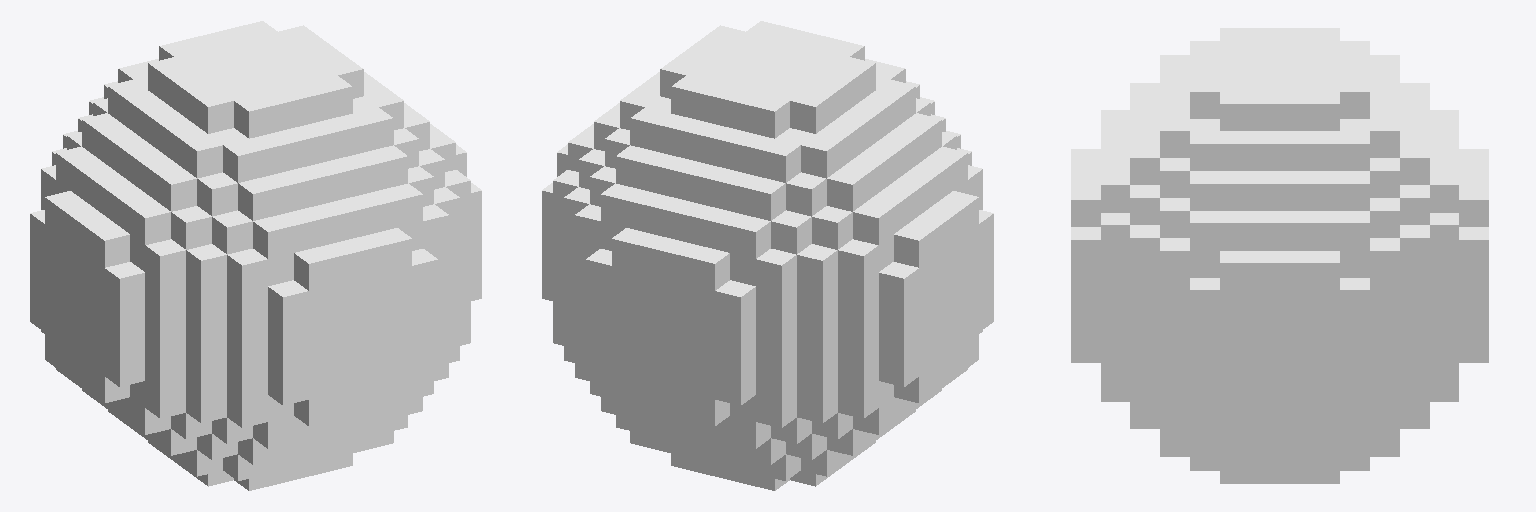
Rendered from enemy-0.obj.
The picture shows the model from 3 angles: view 1: azimuth 30°, elevation 25°; view 2: azimuth 150°, elevation 25°; view 3: azimuth 270°, elevation 25°; orthographic projection.
Visible parts, largest first — view 1: object 1; view 2: object 1; view 3: object 1.
Boxes of the visible parts, x1,y1,x2,y2 form: object 1: [30, 21, 481, 490]; object 1: [542, 21, 993, 490]; object 1: [1071, 28, 1488, 483].
Size of the model in its own units: 1.4 by 1.4 by 1.4.